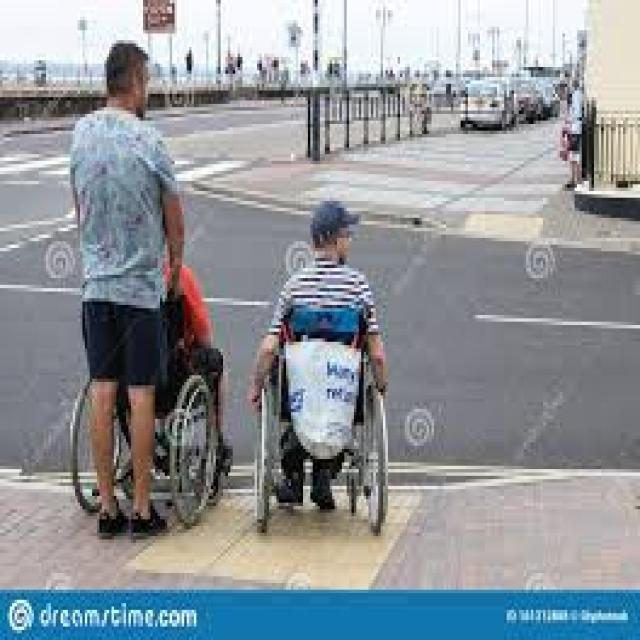wheelchairs: (46, 348, 230, 522), (245, 352, 400, 556)
